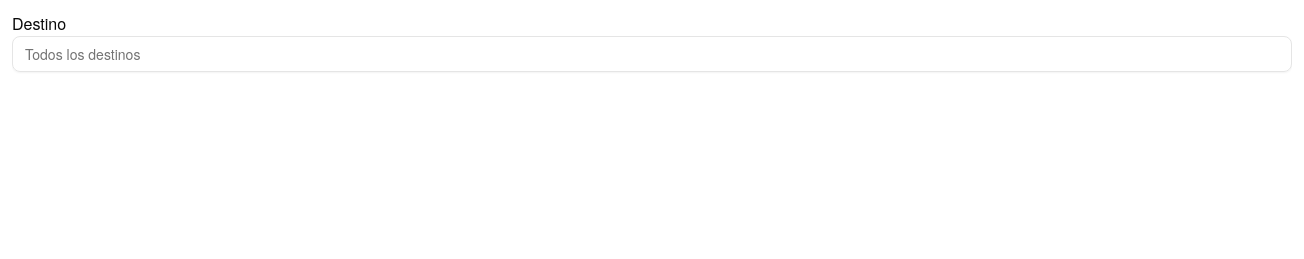
AirportCombobox del panel › al enfocarlo lista todos los aeropuertos, nacionales e internacionales
Click the dropdown labelled "Destino": (652, 54) 12,36 -> 1292,72
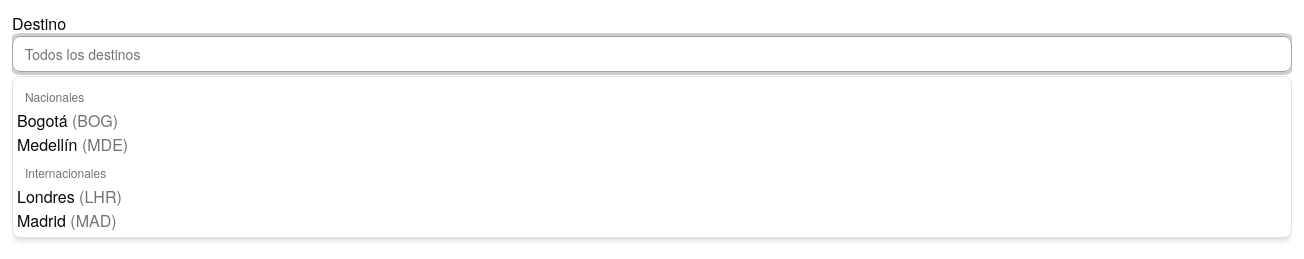
Check: the element "Internacionales" is shown, box 17,164 -> 122,232
